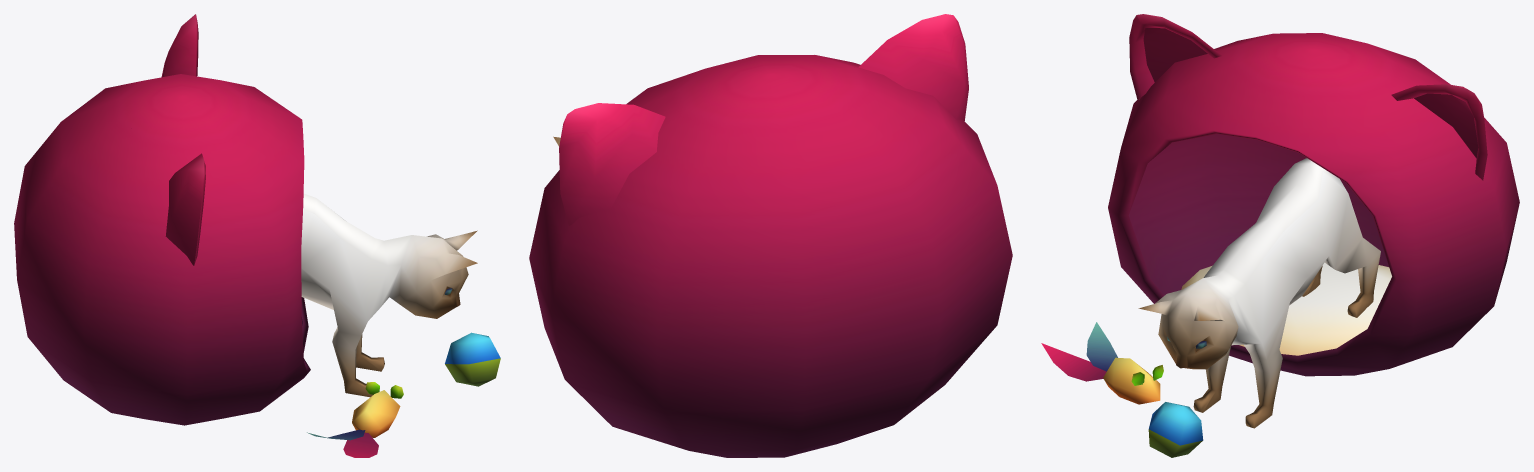
The model's file is onecat.fbx.
3 views of the same model, side by side, from view 1: azimuth 30°, elevation 25°; view 2: azimuth 150°, elevation 25°; view 3: azimuth 270°, elevation 25° (orthographic). The views are drawn at different scales.
Visible parts, largest first — view 1: 67.001, 67.008, 67.007; view 2: 67.001; view 3: 67.001, 67.008, 67.007.
Part boxes in pixels (left/top/right/bottom): 67.001: left=14, top=14, right=477, bottom=425; 67.008: left=307, top=382, right=403, bottom=457; 67.007: left=445, top=332, right=500, bottom=386; 67.001: left=529, top=14, right=1012, bottom=457; 67.001: left=1108, top=14, right=1519, bottom=428; 67.008: left=1041, top=322, right=1163, bottom=404; 67.007: left=1148, top=402, right=1203, bottom=457.
Bounding box in the file's own units: 198 × 140 × 201.
